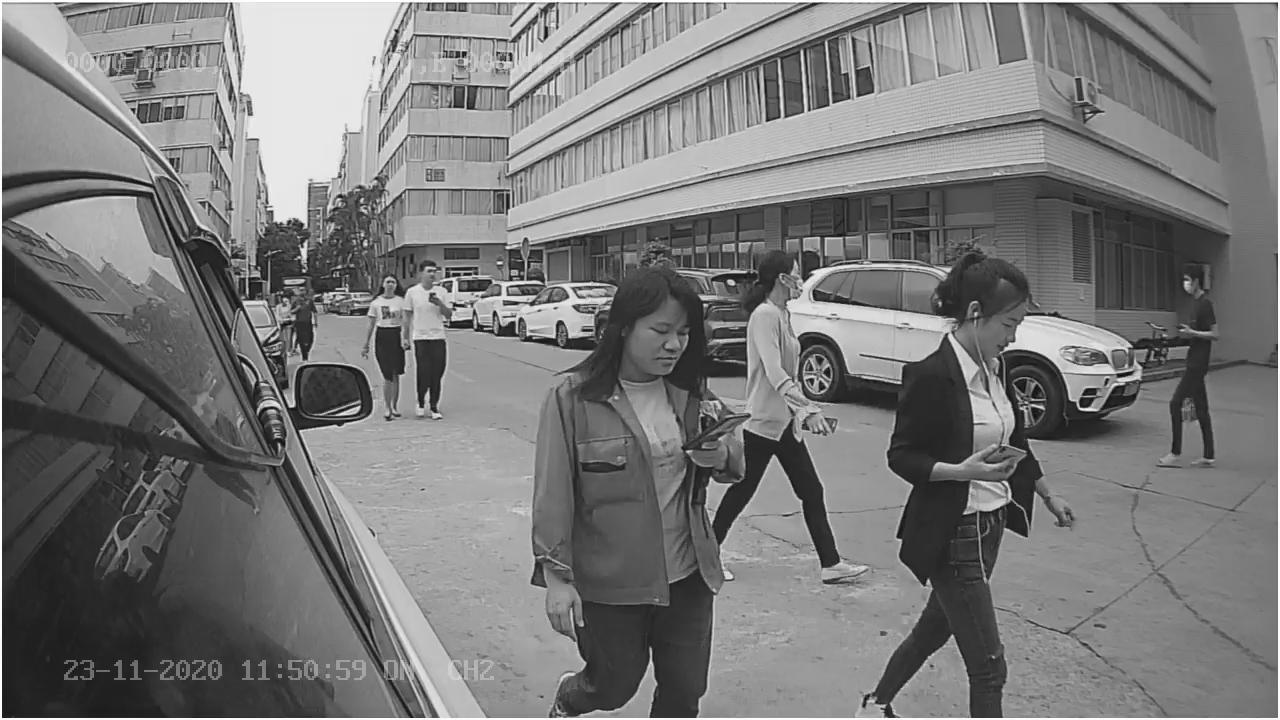person: (707, 229, 858, 587), (1155, 257, 1219, 479), (360, 262, 414, 422)
